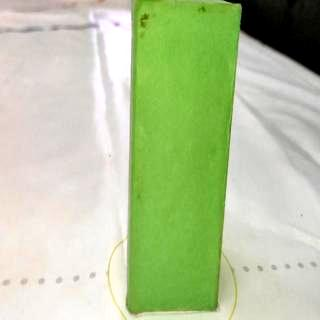greenbox: (128, 0, 243, 312)
